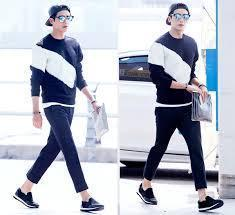pants: (143, 100, 211, 190), (27, 104, 91, 195)
sweater: (29, 33, 92, 110), (146, 32, 201, 113)
